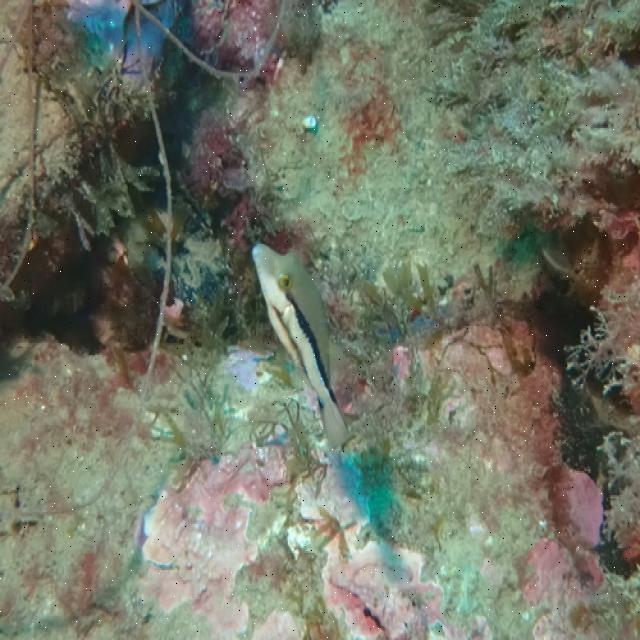Balik: (253, 245, 349, 447)
